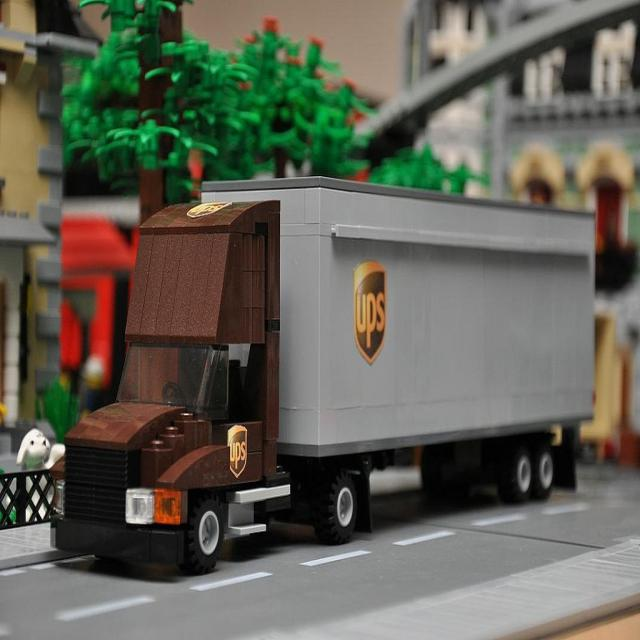ups: (354, 263, 391, 367), (227, 425, 250, 479), (189, 203, 231, 222)
